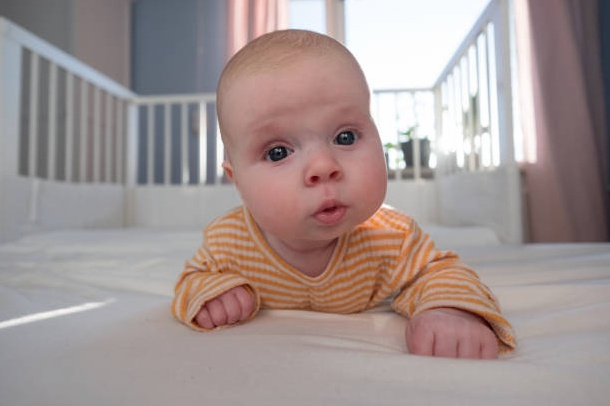baby: (172, 30, 515, 357)
crib: (0, 1, 609, 404)
